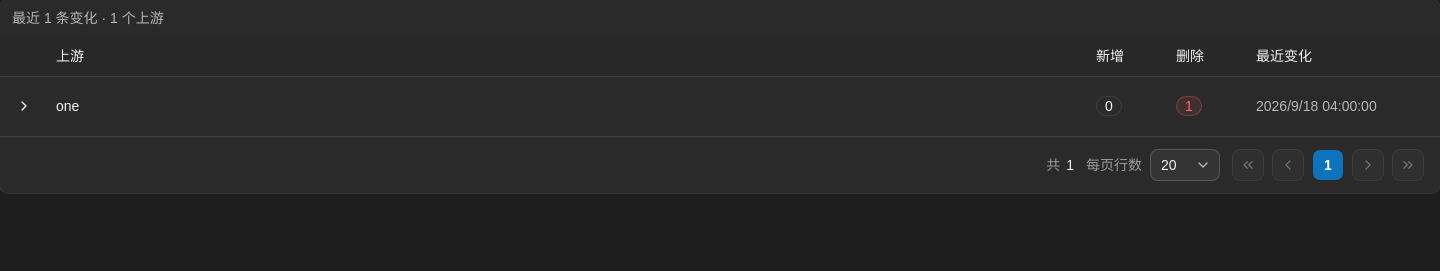
Test: 展开删除分组变化时保留记录但不显示倍率或缺失提示
Click the button named "展开 one 的变化明细".
click(24, 106)  # box [8,90,40,122]
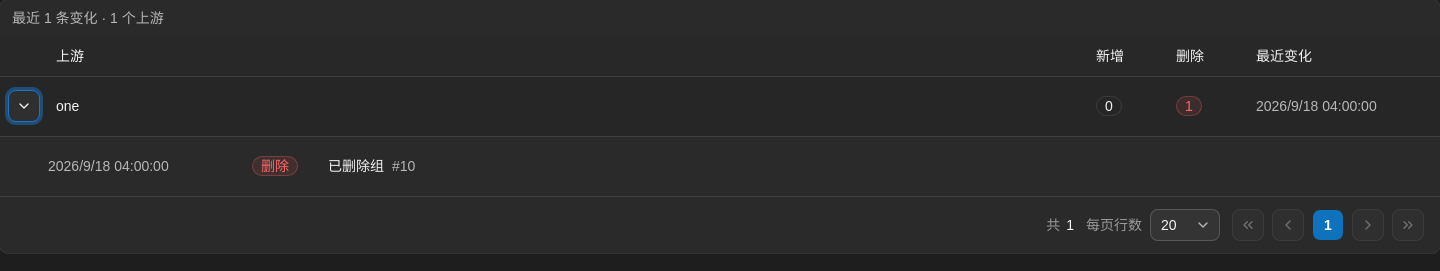
Expected: the list item does not show "账号成本", [48,156,415,176]
Expected: the list item shows "已删除组", [328,158,384,174]
